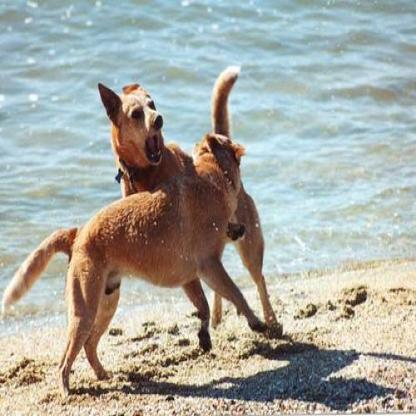dingo: (0, 129, 269, 404), (96, 64, 290, 341)
